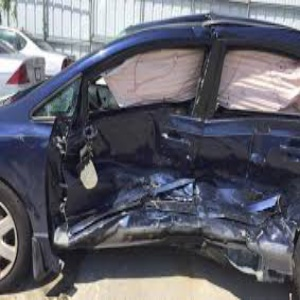door: (56, 48, 237, 223)
